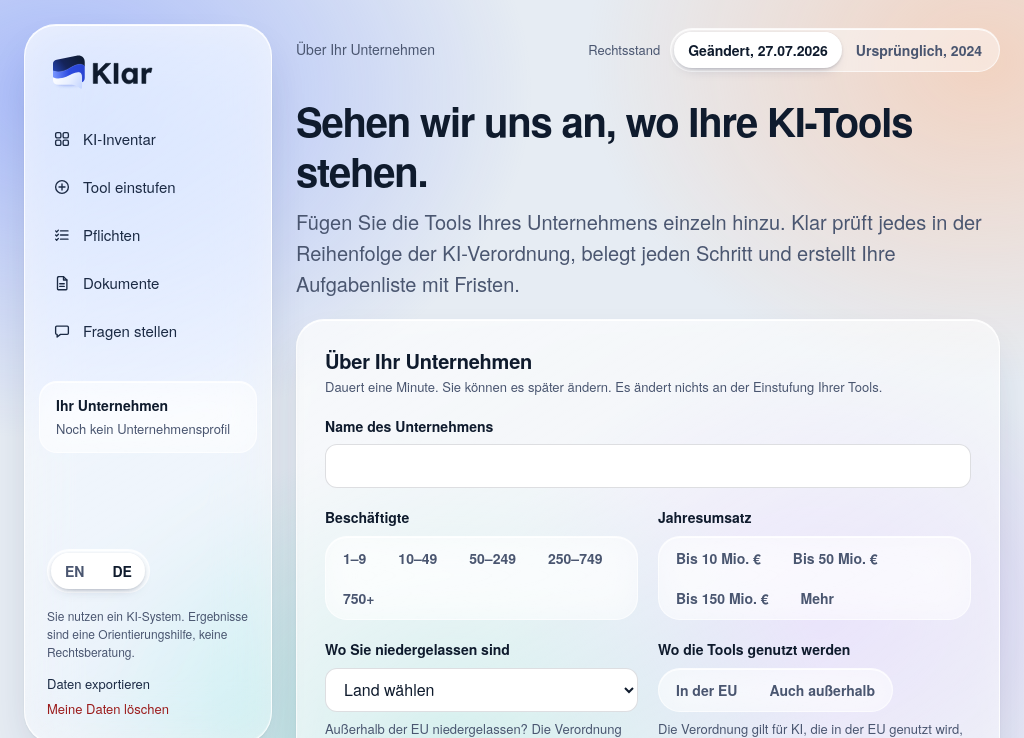
Scenario: Welcome, the derived size line › cites Art. 99(6a), not Art. 99(6), for a small mid-cap (de)
expect the heading "Sehen wir uns an, wo Ihre KI-Tools stehen." is shown: met, box [296,96,1000,196]
Step 1. Click the button "250–749" → (575, 558), box [534,540,616,576]
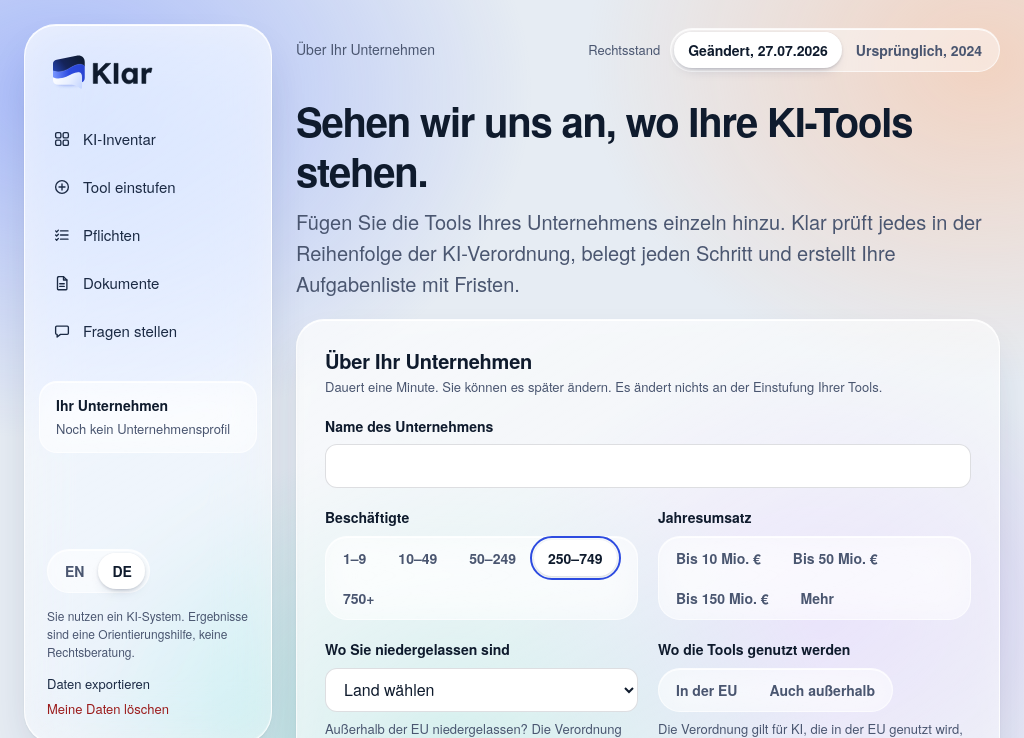
Step 2. Click the button "Bis 50 Mio. €" → (835, 558), box [779,540,892,576]
(page scrolled)
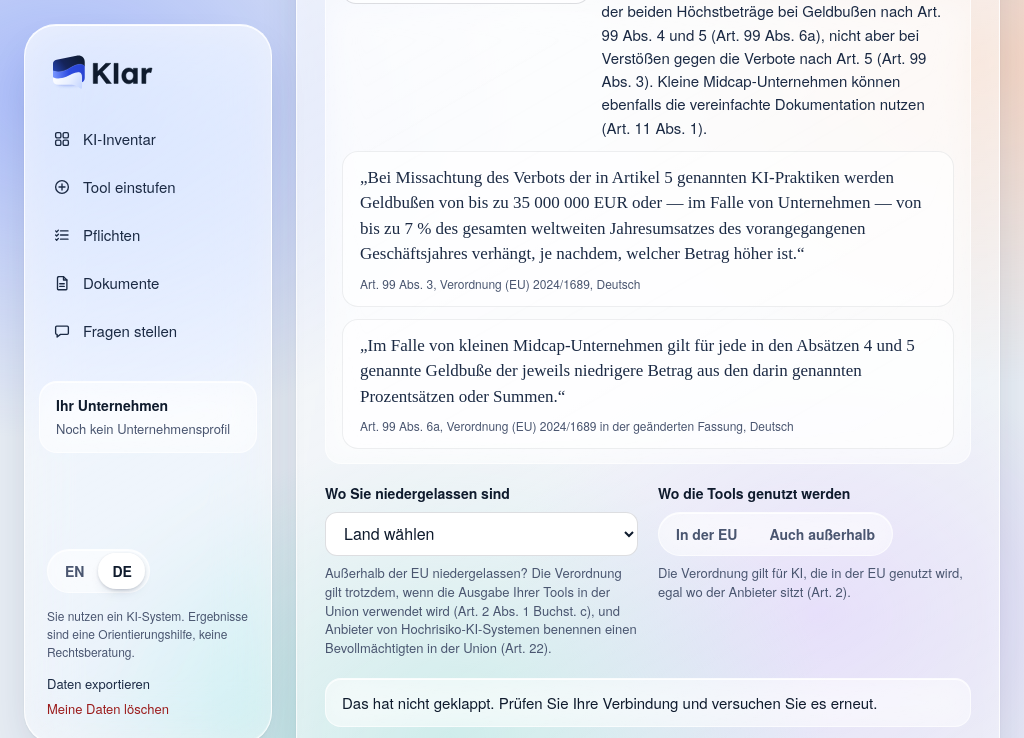
expect the text "Art. 99 Abs. 6a, Verordnung (EU) 2024/1689 in der geänderten Fassung, Deutsch" shows "Im Falle von kleinen Midcap-Unternehmen gilt für jede in den Absätzen 4 und 5 genannte Geldbuße der jeweils niedrigere Betrag aus den darin genannten Prozentsät": met, box [360,336,915,406]
